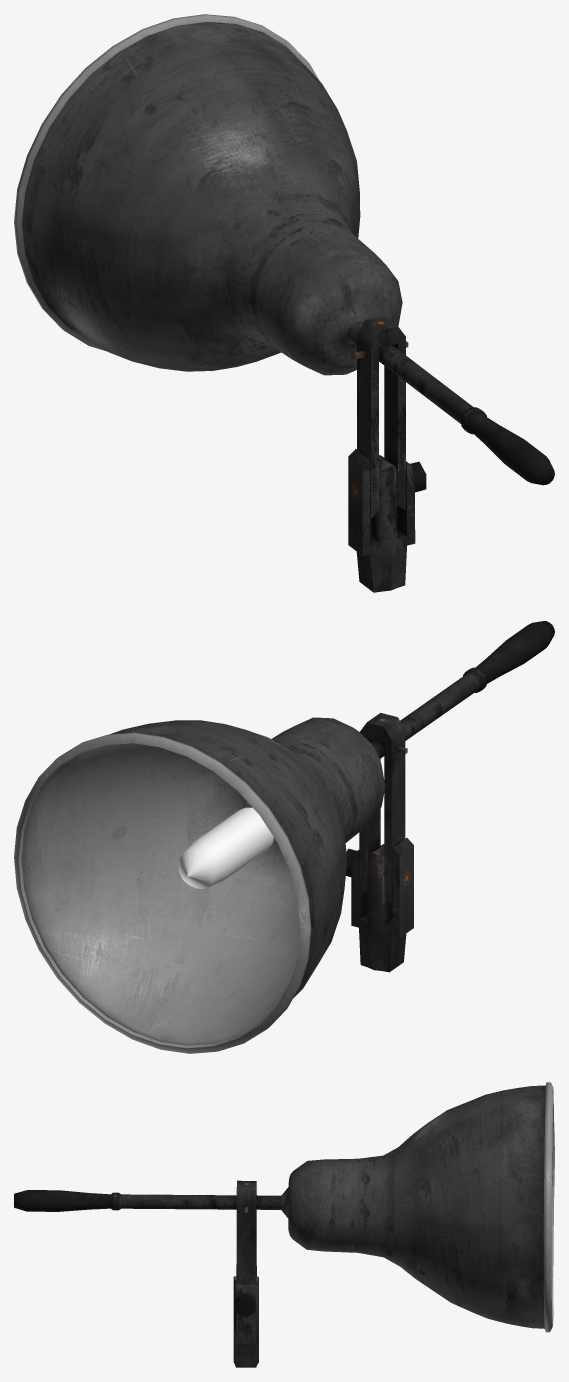
The model's file is faro1.obj.
3 renders of one model, top to bottom at view 1: azimuth 30°, elevation 25°; view 2: azimuth 150°, elevation 25°; view 3: azimuth 270°, elevation 25°, orthographic. The views are drawn at different scales.
Parts seen in each view (by area): view 1: Faro1; view 2: Faro1; view 3: Faro1.
Boxes of the visible parts, x1,y1,x2,y2 form: Faro1: (14, 14, 554, 592); Faro1: (14, 621, 554, 1053); Faro1: (14, 1082, 554, 1367).
Size of the model in its own units: 3.77 by 4.54 by 8.15.
